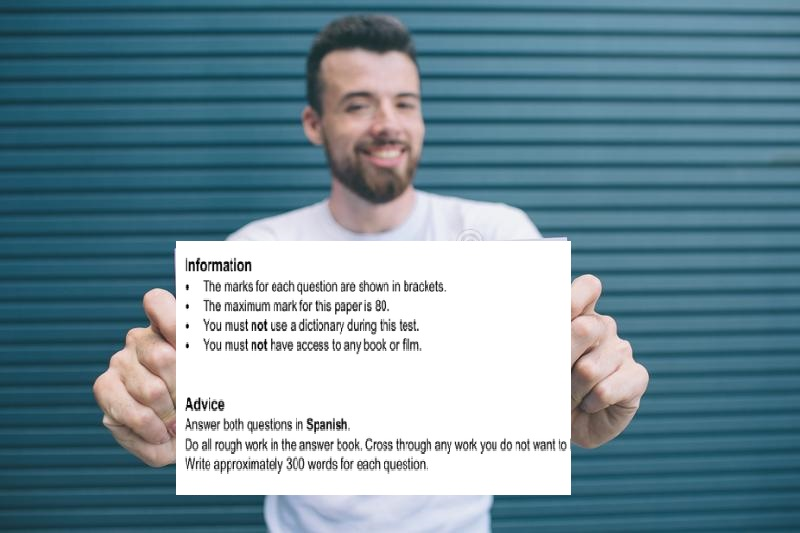questionPaper: (177, 242, 573, 497)
